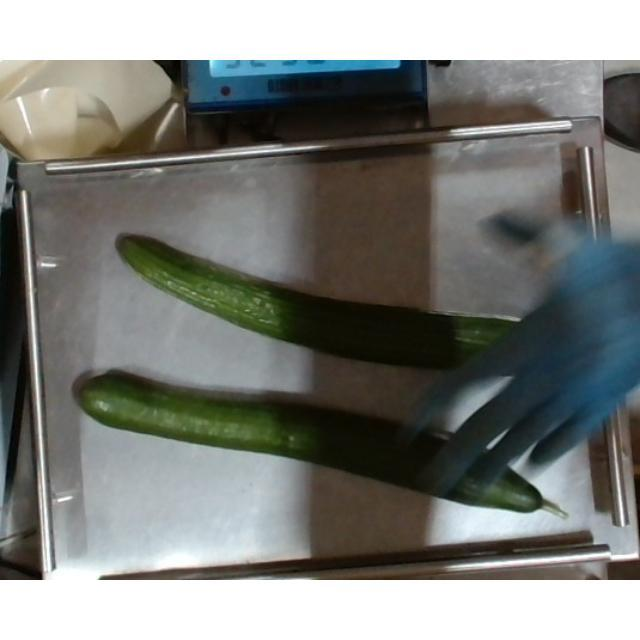cucumber: (74, 362, 572, 522), (117, 232, 535, 368)
